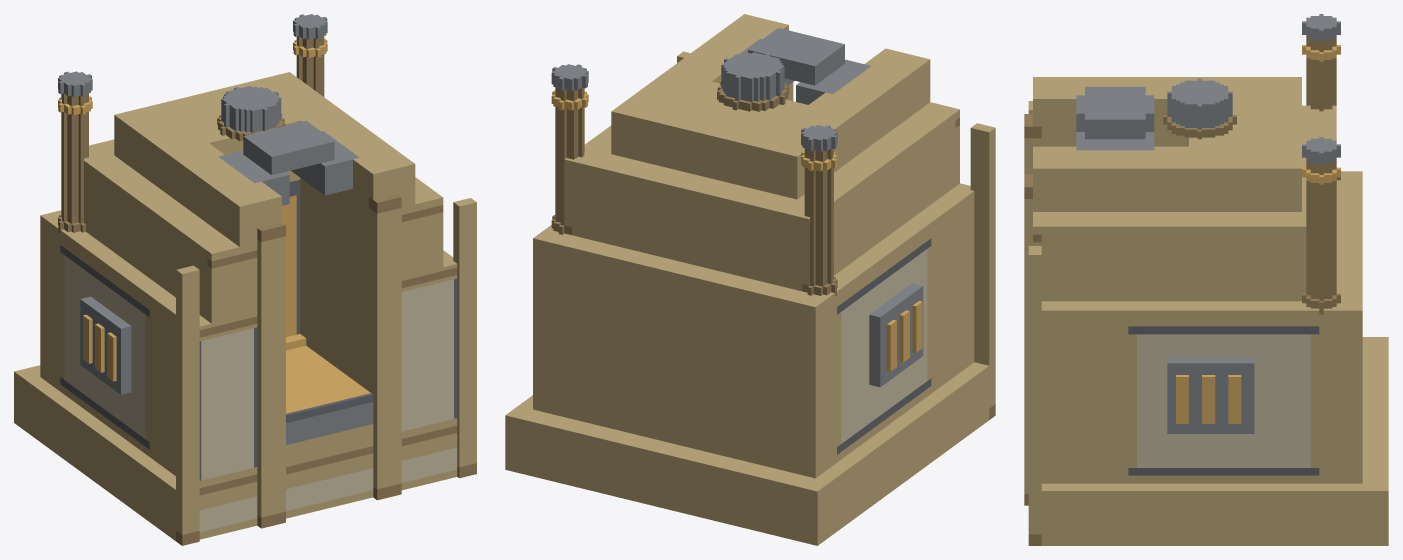
The model's file is tower.glb.
The picture shows the model from 3 angles, left to right: view 1: azimuth 30°, elevation 25°; view 2: azimuth 150°, elevation 25°; view 3: azimuth 270°, elevation 25°; orthographic projection. The views are drawn at different scales.
Size of the model in its own units: 84 by 98 by 84.
